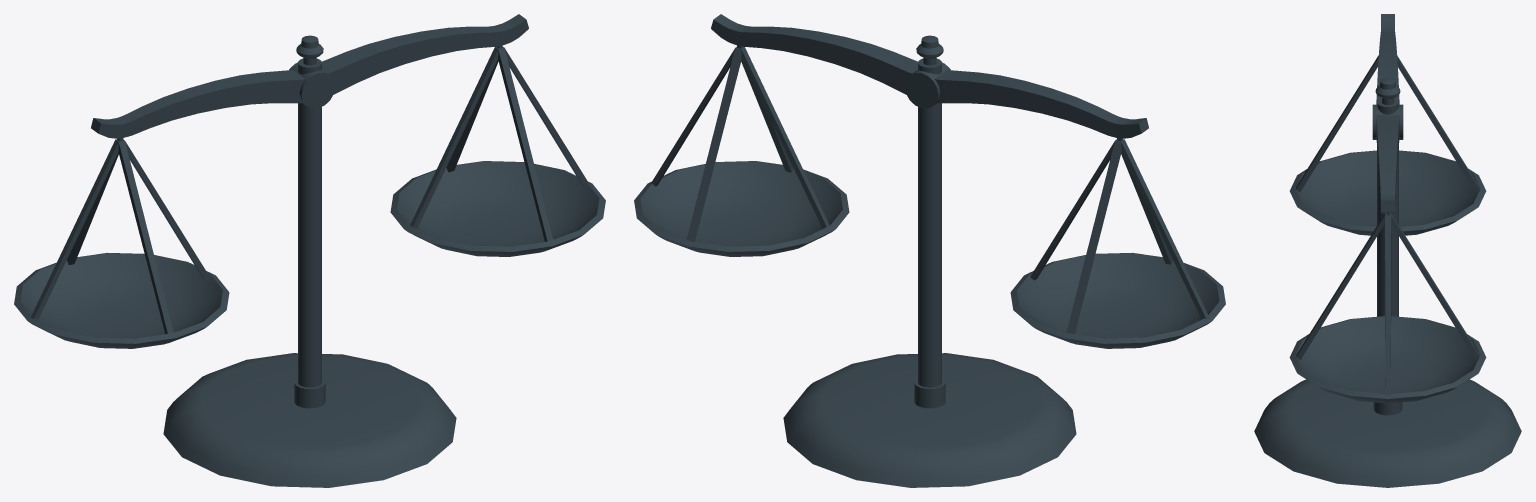
Rendered from balance_scale.fbx.
The picture shows the model from 3 angles, left to right: view 1: azimuth 30°, elevation 25°; view 2: azimuth 150°, elevation 25°; view 3: azimuth 270°, elevation 25°; orthographic projection. The views are drawn at different scales.
Parts seen in each view (by area): view 1: Circle.2591; view 2: Circle.2591; view 3: Circle.2591.
Part boxes in pixels (x1=…): Circle.2591: x1=14, y1=14, x2=605, y2=487; Circle.2591: x1=634, y1=14, x2=1225, y2=487; Circle.2591: x1=1254, y1=14, x2=1521, y2=487.
Size of the model in its own units: 243 by 160 by 110.
Materials: 1 (1 with a texture image).
